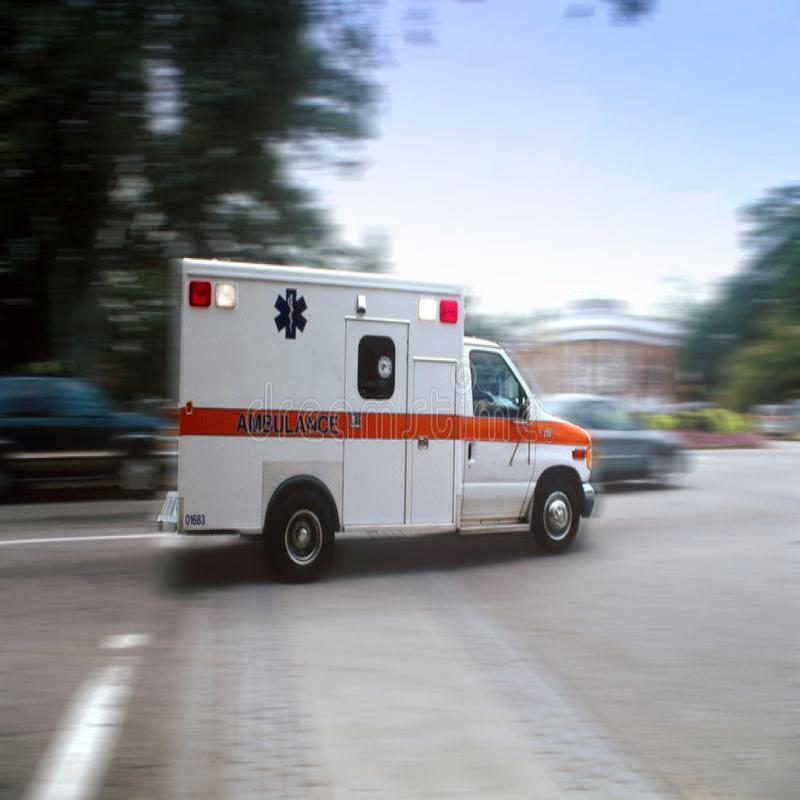ambulance: (136, 247, 603, 597)
